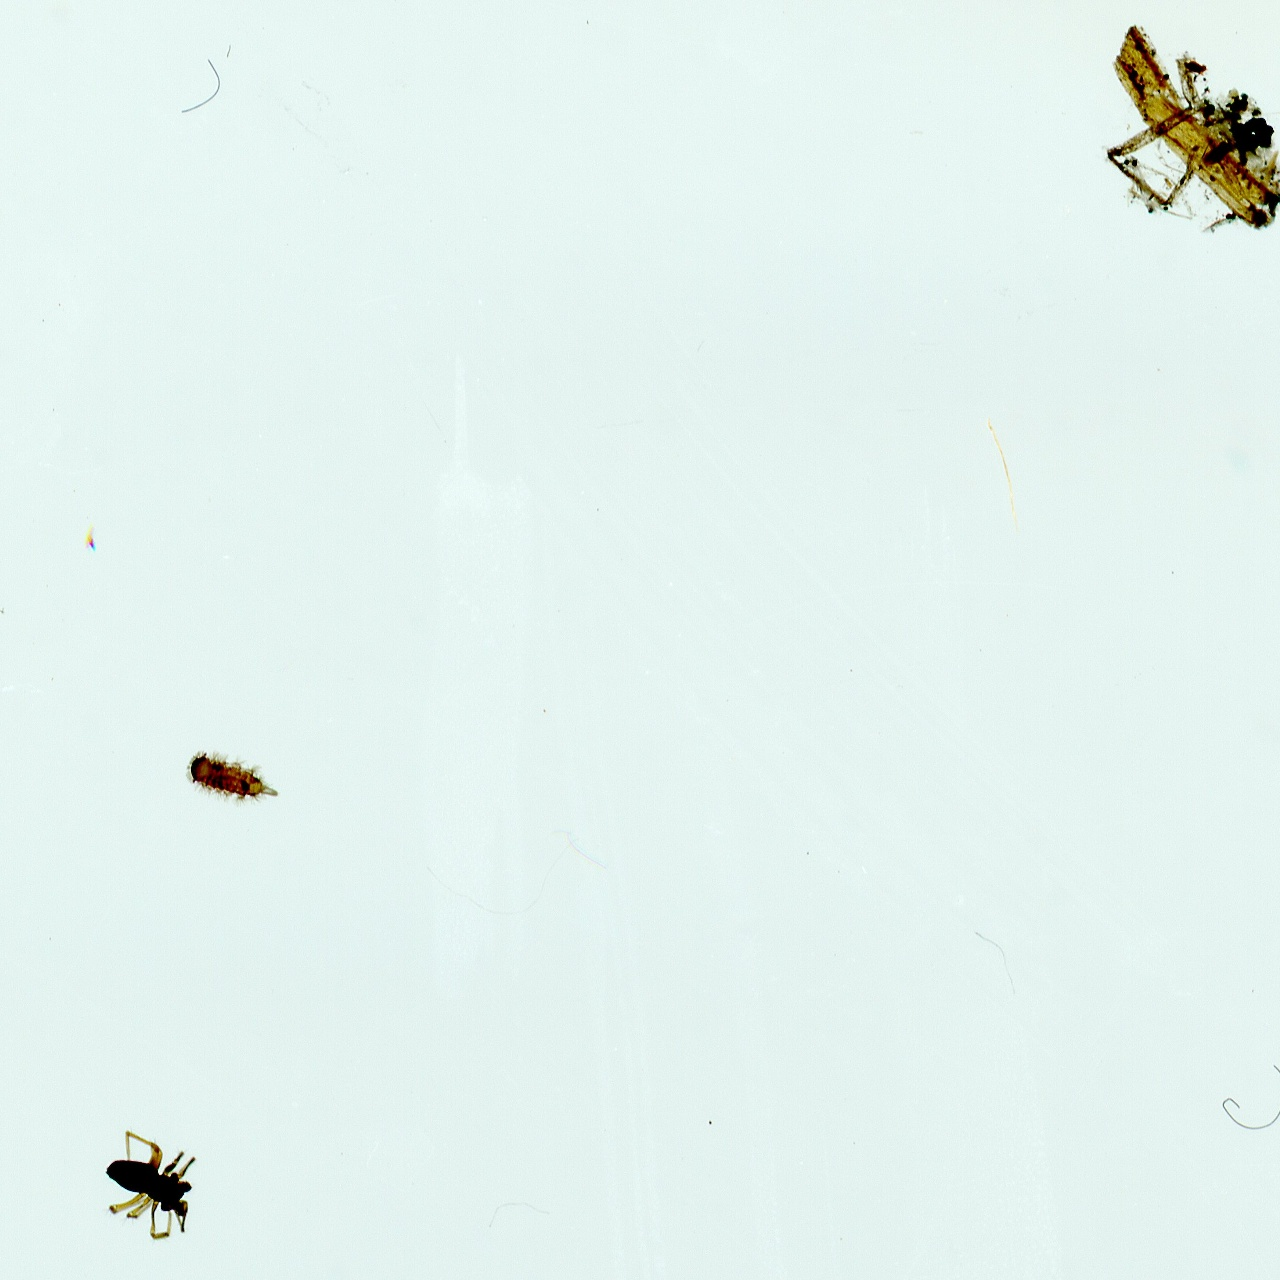arthropod: (97, 1130, 200, 1242), (186, 749, 280, 811)
